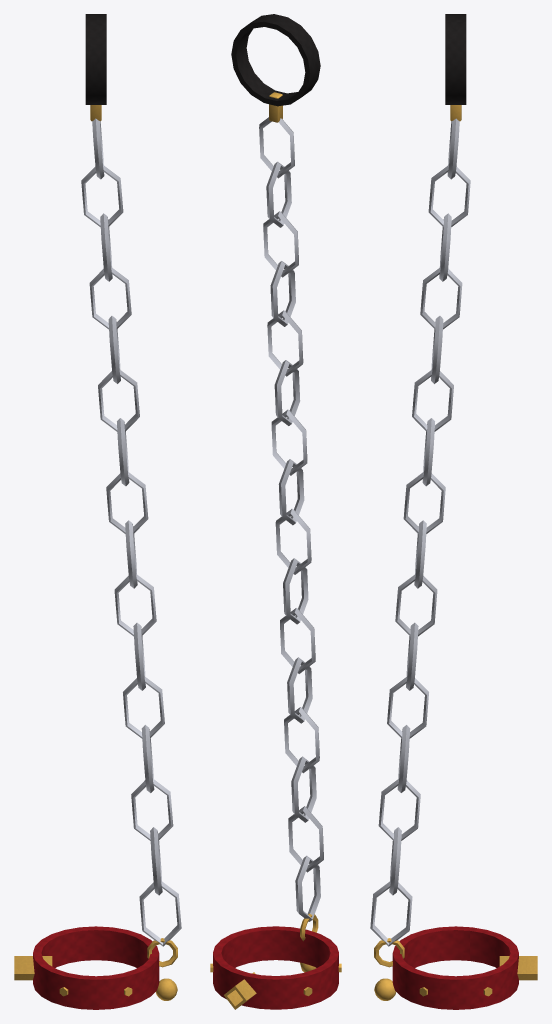
The model's file is Bind_CollarLeash.fbx.
The picture shows the model from 3 angles, left to right: view 1: azimuth 90°, elevation 25°; view 2: azimuth 150°, elevation 25°; view 3: azimuth 270°, elevation 25°; orthographic projection.
Visible parts, largest first — view 1: Bind_CollarLeash; view 2: Bind_CollarLeash; view 3: Bind_CollarLeash.
Boxes of the visible parts, x1,y1,x2,y2 form: Bind_CollarLeash: (14,14,181,1009); Bind_CollarLeash: (210,14,341,1009); Bind_CollarLeash: (370,14,537,1009).
Bounding box in the file's own units: 0.133 × 1.14 × 0.176.
Materials: 4 (4 with a texture image).
